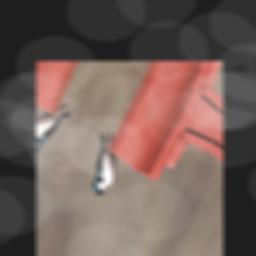Swallow: (77, 127, 132, 201)
